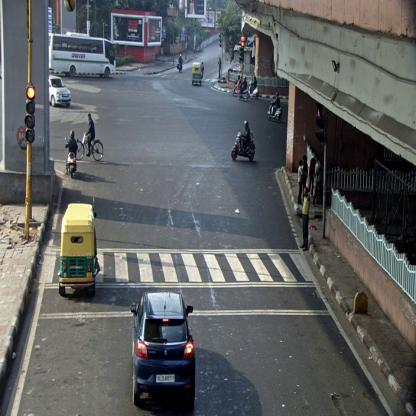bus: (49, 33, 115, 79)
car: (132, 290, 196, 408), (48, 76, 72, 110)
motorcycle: (75, 113, 103, 160), (230, 119, 255, 161), (64, 130, 78, 179), (266, 92, 284, 126), (246, 76, 260, 100), (237, 76, 248, 102), (231, 77, 242, 97), (177, 53, 183, 73)
